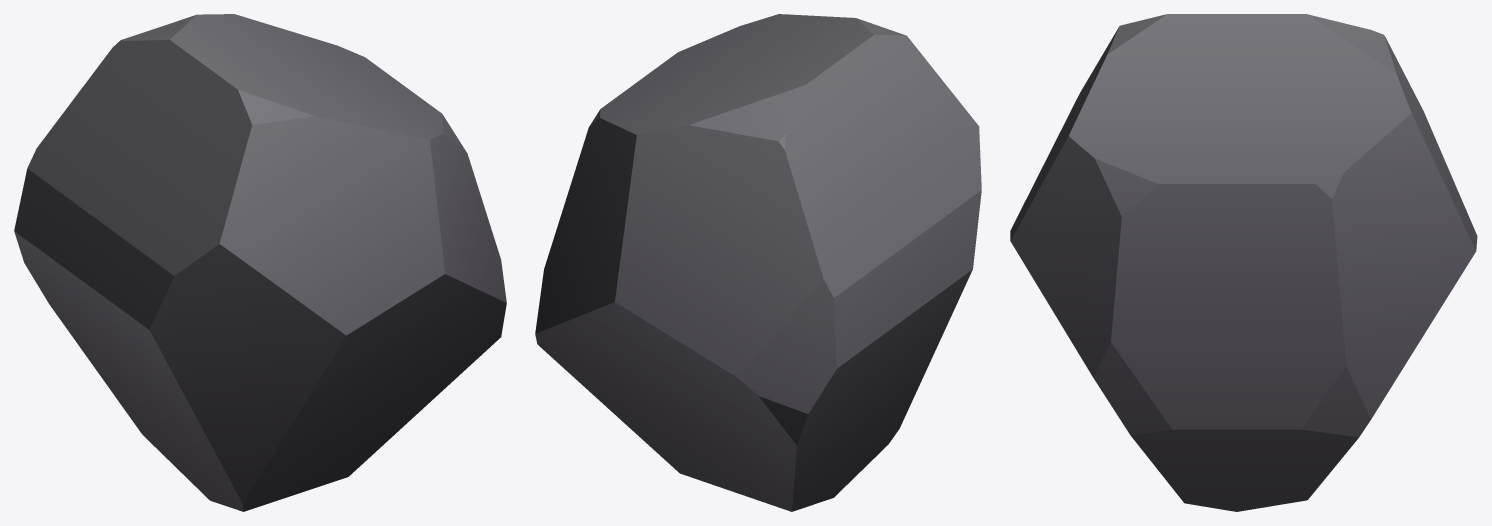
File: Rock_02.glb
3 renders of one model, left to right at view 1: azimuth 30°, elevation 25°; view 2: azimuth 150°, elevation 25°; view 3: azimuth 270°, elevation 25°, orthographic.
Parts seen in each view (by area): view 1: Rock_02_LOD0; view 2: Rock_02_LOD0; view 3: Rock_02_LOD0.
Part boxes in pixels (x1,y1,x2,y2): Rock_02_LOD0: (14,14,506,511); Rock_02_LOD0: (535,14,981,511); Rock_02_LOD0: (1010,14,1477,511).
Size of what is drawn, in the model's own units: 0.9708 by 1.17 by 1.11.
Materials: 1 (1 with a texture image).
